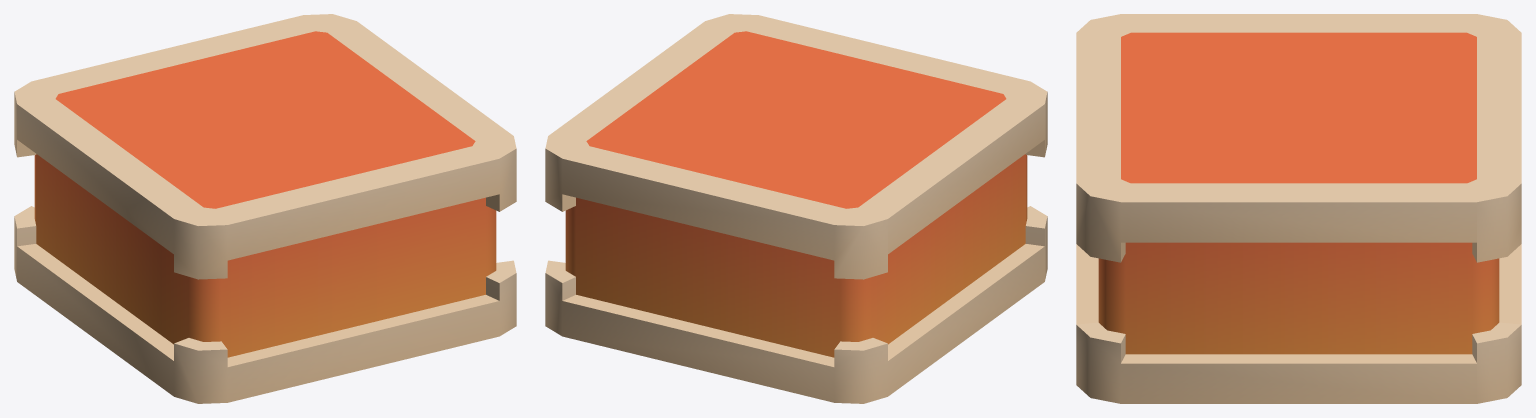
The model's file is block-moving-blue.glb.
The picture shows the model from 3 angles, left to right: view 1: azimuth 30°, elevation 25°; view 2: azimuth 150°, elevation 25°; view 3: azimuth 270°, elevation 25°; orthographic projection. The views are drawn at different scales.
Visible parts, largest first — view 1: block-moving-blue; view 2: block-moving-blue; view 3: block-moving-blue.
Boxes of the visible parts, box(x1,y1,x2,y2) form: block-moving-blue: box(14, 14, 516, 403); block-moving-blue: box(545, 14, 1047, 403); block-moving-blue: box(1076, 14, 1521, 403).
Bounding box in the file's own units: 1 × 0.5 × 1.
